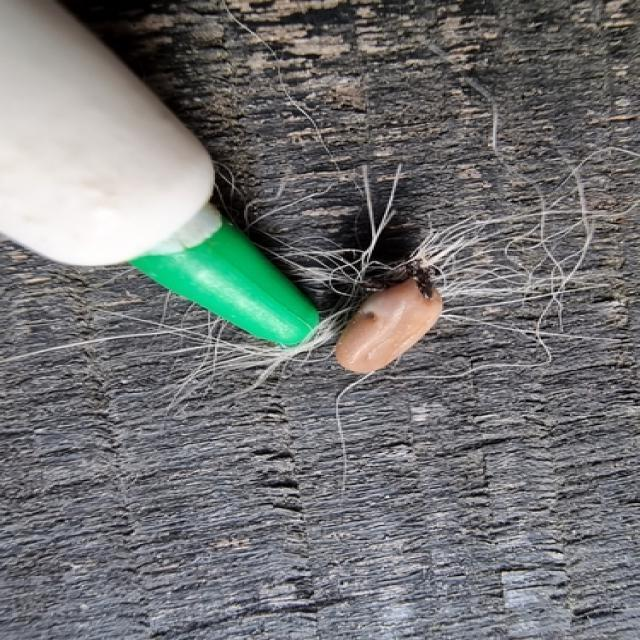Ixodes Ricinus-F-Fed: (333, 259, 444, 374)
